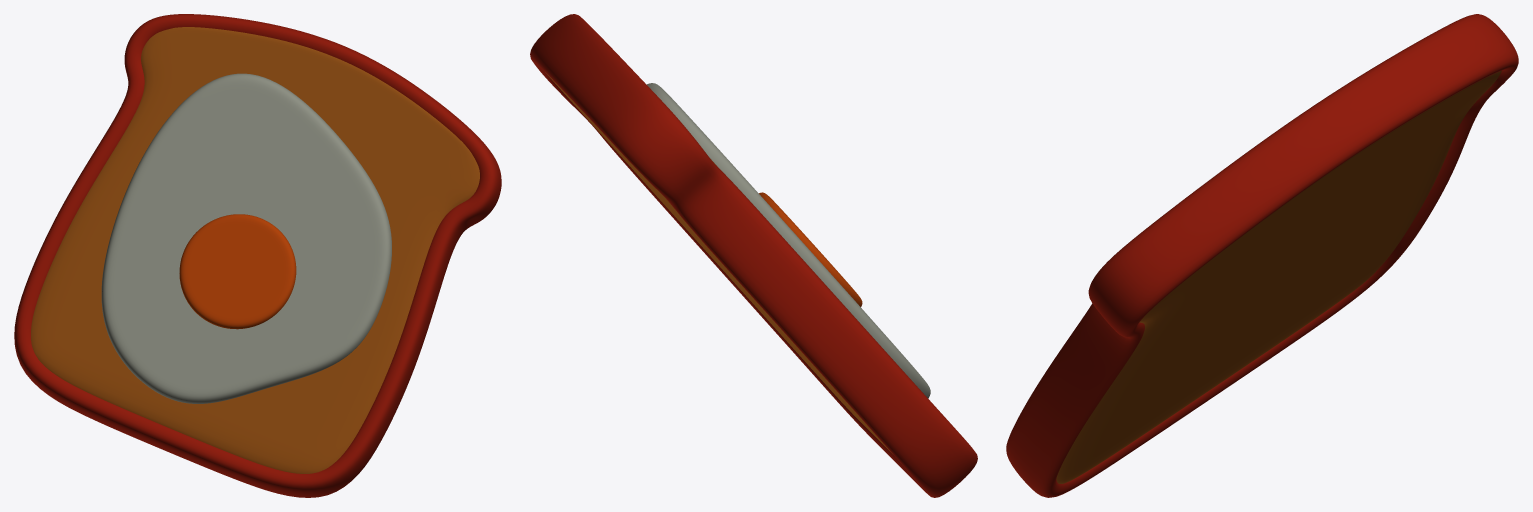
The model's file is Fried Egg Toast.obj.
The picture shows the model from 3 angles, left to right: view 1: azimuth 30°, elevation 25°; view 2: azimuth 150°, elevation 25°; view 3: azimuth 270°, elevation 25°; orthographic projection. The views are drawn at different scales.
Parts seen in each view (by area): view 1: Fried_Egg_Toast.003_Plane.003, Fried_Egg_Toast.002_Circle.014, Fried_Egg_Toast_Plane.002, Fried_Egg_Toast.001_Circle.016; view 2: Fried_Egg_Toast_Plane.002, Fried_Egg_Toast.002_Circle.014, Fried_Egg_Toast.003_Plane.003, Fried_Egg_Toast.001_Circle.016; view 3: Fried_Egg_Toast_Plane.002, Fried_Egg_Toast.003_Plane.003.
Part boxes in pixels (x1,y1,x2,y2): Fried_Egg_Toast.003_Plane.003: [31, 27, 479, 473]; Fried_Egg_Toast.002_Circle.014: [101, 73, 391, 403]; Fried_Egg_Toast_Plane.002: [14, 14, 501, 497]; Fried_Egg_Toast.001_Circle.016: [179, 214, 296, 329]; Fried_Egg_Toast_Plane.002: [530, 14, 977, 497]; Fried_Egg_Toast.002_Circle.014: [646, 83, 930, 398]; Fried_Egg_Toast.003_Plane.003: [545, 72, 892, 453]; Fried_Egg_Toast.001_Circle.016: [759, 192, 862, 306]; Fried_Egg_Toast_Plane.002: [1006, 14, 1518, 497]; Fried_Egg_Toast.003_Plane.003: [1056, 70, 1501, 483].
Size of the model in its own units: 4.84 by 4.23 by 4.05.
